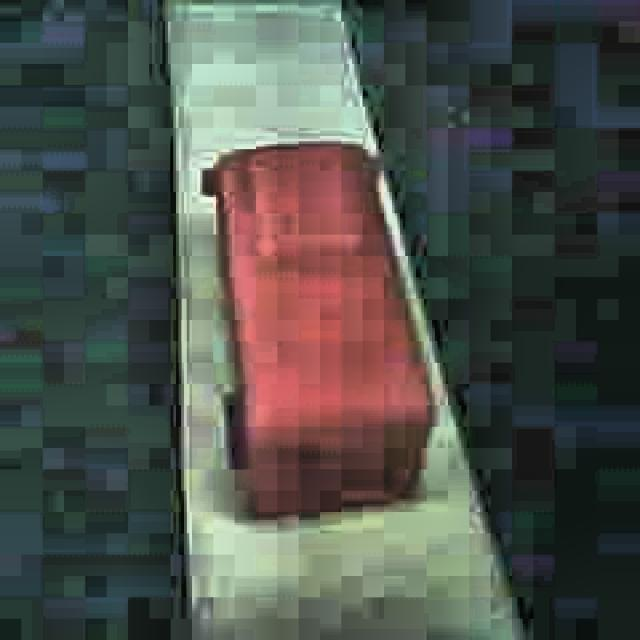bus: (200, 136, 438, 529)
